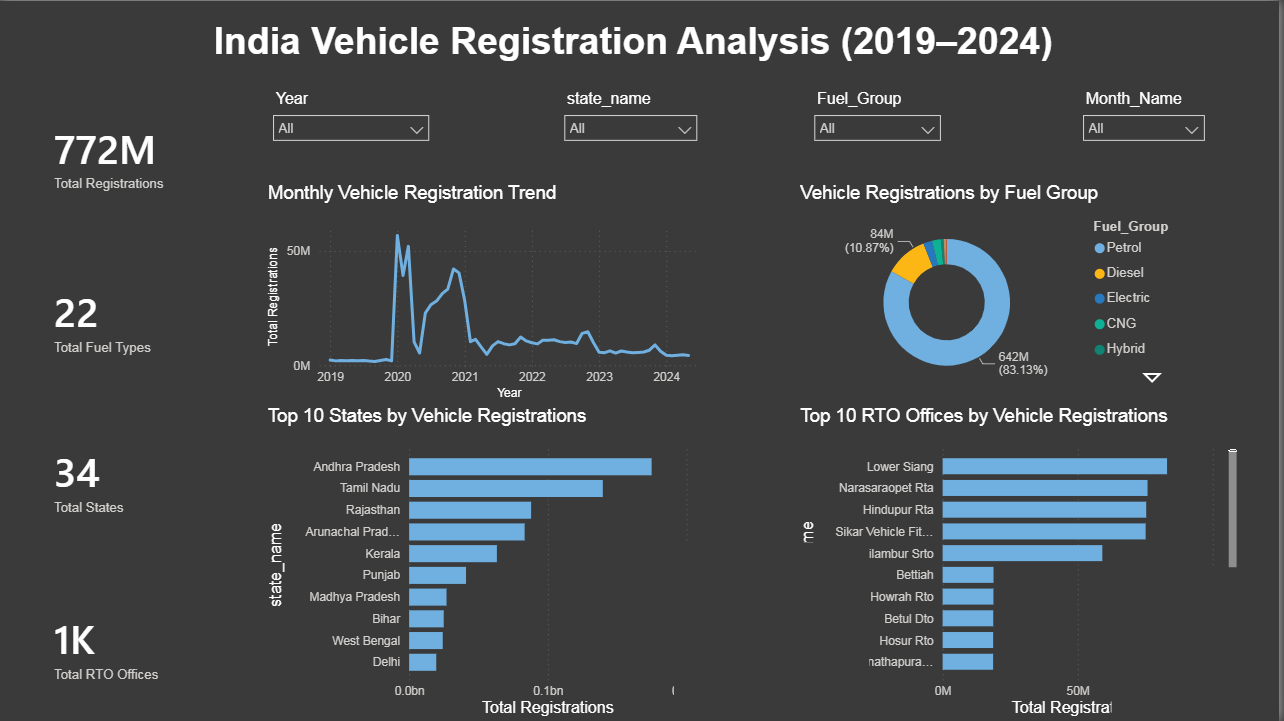

This screenshot's page, from the dashboard's own definition file:
{"tool":"powerbi","page":{"name":"Page 1","canvas":[1280,720],"ordinal":0},"visuals":[{"type":"cardVisual","fields":{"Data":["vehicle_registration_cleaned.Total Fuel Types"]},"box":[25,242.5,170,150],"z":0},{"type":"cardVisual","fields":{"Data":["vehicle_registration_cleaned.Total Registrations"]},"box":[25,83.3,170,141.7],"z":1000},{"type":"cardVisual","fields":{"Data":["vehicle_registration_cleaned.Total RTO Offices"]},"box":[25,570,170,150],"z":2000},{"type":"cardVisual","fields":{"Data":["vehicle_registration_cleaned.Total States"]},"box":[25,402.5,170,150],"z":3000},{"type":"slicer","fields":{"Values":["vehicle_registration_cleaned.Year"]},"box":[263.3,83.3,176.7,56.7],"z":4000},{"type":"slicer","fields":{"Values":["vehicle_registration_cleaned.state_name"]},"box":[555,83.3,153.3,56.7],"z":5000},{"type":"slicer","fields":{"Values":["vehicle_registration_cleaned.Fuel_Group"]},"box":[805,83.3,146.7,56.7],"z":6000},{"type":"slicer","fields":{"Values":["vehicle_registration_cleaned.Month_Name"]},"box":[1073.3,83.3,141.7,56.7],"z":7000},{"type":"donutChart","title":"Vehicle Registrations by Fuel Group","fields":{"Y":["vehicle_registration_cleaned.Total Registrations"],"Category":["vehicle_registration_cleaned.Fuel_Group"]},"box":[796.7,181.7,418.3,208.3],"z":8000},{"type":"lineChart","title":"Monthly Vehicle Registration Trend","fields":{"Y":["vehicle_registration_cleaned.Total Registrations"],"Category":["vehicle_registration_cleaned.Year_Month.Variation.Date Hierarchy.Year","vehicle_registration_cleaned.Year_Month.Variation.Date Hierarchy.Quarter","vehicle_registration_cleaned.Year_Month.Variation.Date Hierarchy.Month","vehicle_registration_cleaned.Year_Month.Variation.Date Hierarchy.Day"]},"box":[263.3,181.7,445,221.7],"z":9000},{"type":"clusteredBarChart","title":"Top 10 States by Vehicle Registrations","fields":{"Y":["vehicle_registration_cleaned.Total Registrations"],"Category":["vehicle_registration_cleaned.state_name"]},"box":[263.8,403.8,445,316.7],"z":10000},{"type":"clusteredBarChart","title":"Top 10 RTO Offices by Vehicle Registrations","fields":{"Category":["vehicle_registration_cleaned.office_name"],"Y":["vehicle_registration_cleaned.Total Registrations"]},"box":[796.7,403.3,446.7,316.7],"z":11000},{"type":"textbox","box":[1113,566,150,154],"z":13000},{"type":"textbox","box":[25,13.3,1218.3,58.3],"z":14000}]}

Visuals, with their boxes in screenshot pixels (x1, y1, x2, y2), scaled from the page's 1280x720 canvas onto the 1284x721 screenshot:
cardVisual - vehicle_registration_cleaned.Total Fuel Types: bbox(25, 243, 196, 393)
cardVisual - vehicle_registration_cleaned.Total Registrations: bbox(25, 83, 196, 225)
cardVisual - vehicle_registration_cleaned.Total RTO Offices: bbox(25, 571, 196, 720)
cardVisual - vehicle_registration_cleaned.Total States: bbox(25, 403, 196, 553)
slicer - vehicle_registration_cleaned.Year: bbox(264, 83, 441, 140)
slicer - vehicle_registration_cleaned.state_name: bbox(557, 83, 711, 140)
slicer - vehicle_registration_cleaned.Fuel_Group: bbox(808, 83, 955, 140)
slicer - vehicle_registration_cleaned.Month_Name: bbox(1077, 83, 1219, 140)
"Vehicle Registrations by Fuel Group" donutChart: bbox(799, 182, 1219, 391)
"Monthly Vehicle Registration Trend" lineChart: bbox(264, 182, 711, 404)
"Top 10 States by Vehicle Registrations" clusteredBarChart: bbox(265, 404, 711, 720)
"Top 10 RTO Offices by Vehicle Registrations" clusteredBarChart: bbox(799, 404, 1247, 720)
textbox: bbox(1116, 567, 1267, 720)
textbox: bbox(25, 13, 1247, 72)
